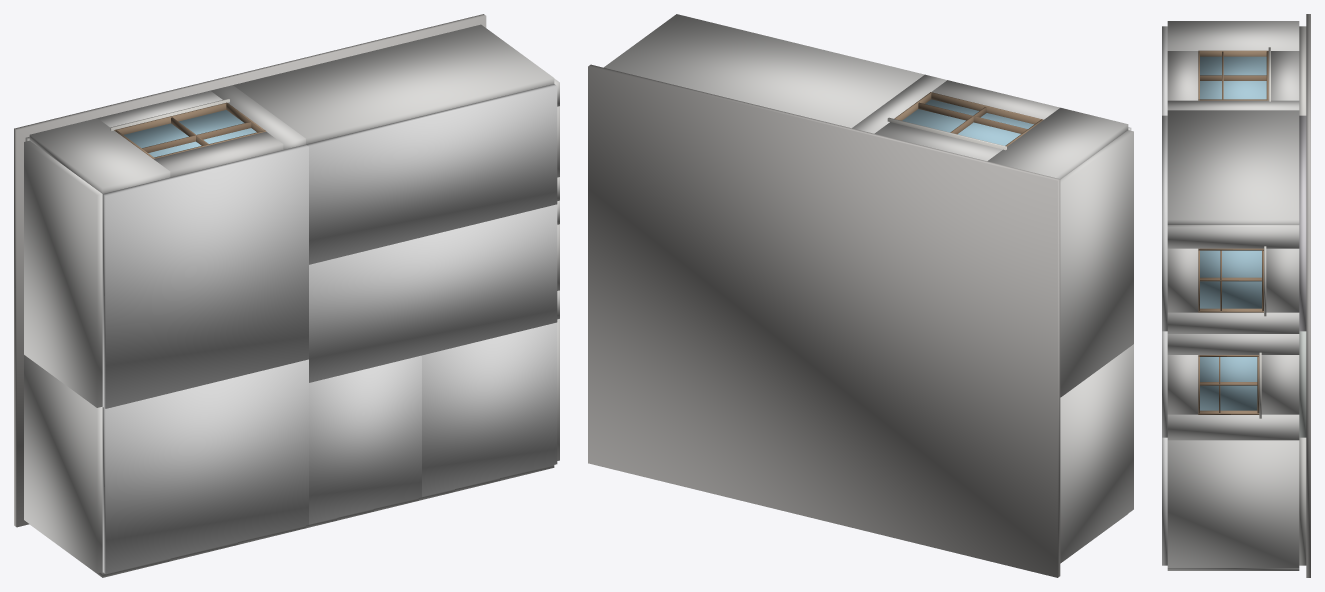
The model's file is benchmark_ground_truth_scene.glb.
3 renders of one model, left to right at view 1: azimuth 30°, elevation 25°; view 2: azimuth 150°, elevation 25°; view 3: azimuth 270°, elevation 25°, orthographic. The views are drawn at different scales.
Parts seen in each view (by area): view 1: Ceilings, Walls, Plinth, Lintels, WindowGlasses, WindowFrames, WindowMullions; view 2: Plinth, Walls, WindowGlasses, Lintels, WindowFrames, WindowMullions; view 3: Walls, WindowGlasses, Lintels, Floors, Ceilings, Plinth, WindowFrames, WindowMullions, WindowSills.
Part boxes in pixels (left/top/right/bottom): Ceilings: left=102, top=84, right=557, bottom=574; Walls: left=24, top=24, right=559, bottom=577; Plinth: left=14, top=14, right=486, bottom=527; Lintels: left=154, top=106, right=559, bottom=561; WindowGlasses: left=124, top=110, right=256, bottom=157; WindowFrames: left=114, top=102, right=266, bottom=158; WindowMullions: left=142, top=117, right=251, bottom=152; Plinth: left=588, top=64, right=1060, bottom=577; Walls: left=604, top=14, right=1133, bottom=563; WindowGlasses: left=902, top=99, right=1033, bottom=145; Lintels: left=931, top=80, right=1059, bottom=119; WindowFrames: left=894, top=92, right=1043, bottom=146; WindowMullions: left=918, top=102, right=1027, bottom=134; Walls: left=1167, top=21, right=1299, bottom=570; WindowGlasses: left=1200, top=56, right=1266, bottom=410; Lintels: left=1167, top=51, right=1198, bottom=414; Floors: left=1299, top=26, right=1306, bottom=565; Ceilings: left=1162, top=26, right=1167, bottom=565; Plinth: left=1306, top=14, right=1310, bottom=577; WindowFrames: left=1198, top=50, right=1268, bottom=414; WindowMullions: left=1200, top=51, right=1266, bottom=412; WindowSills: left=1259, top=47, right=1270, bottom=418.
Size of the model in its own units: 10.4 by 8.4 by 3.17.
